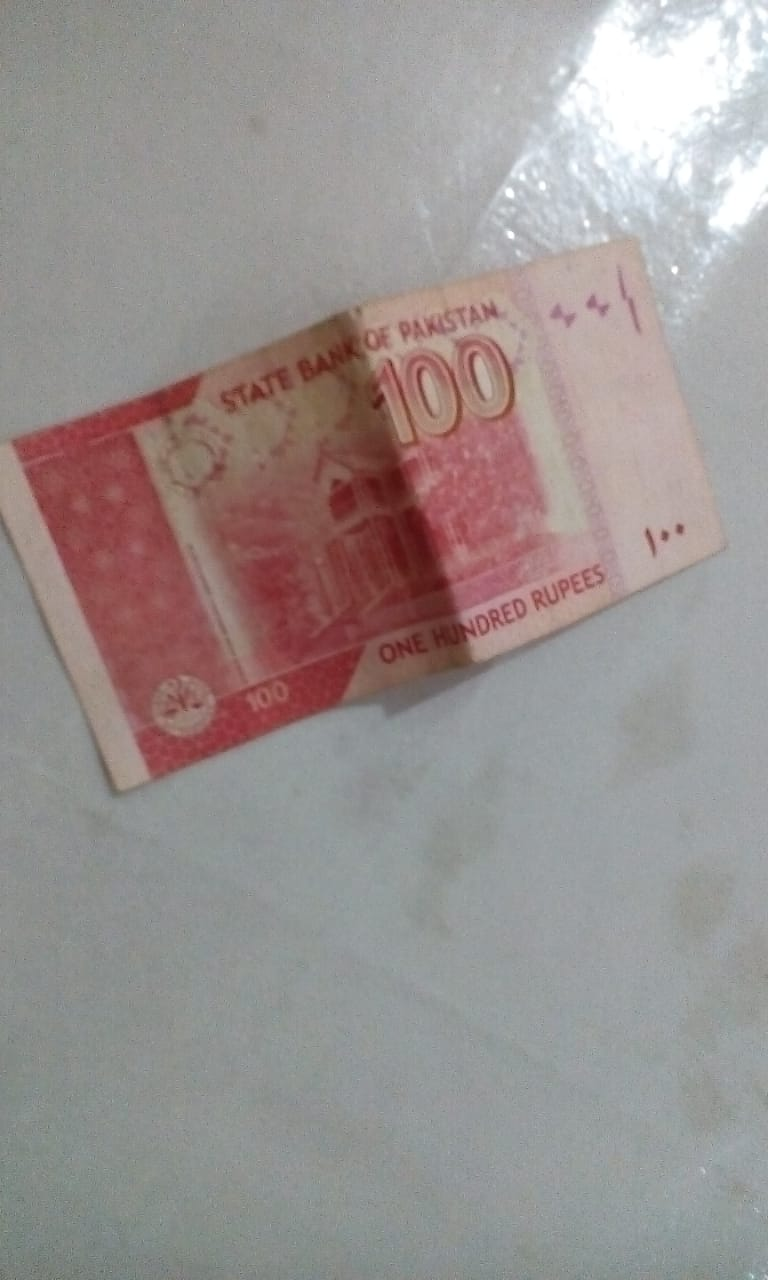100 rupee: (14, 231, 746, 822)
